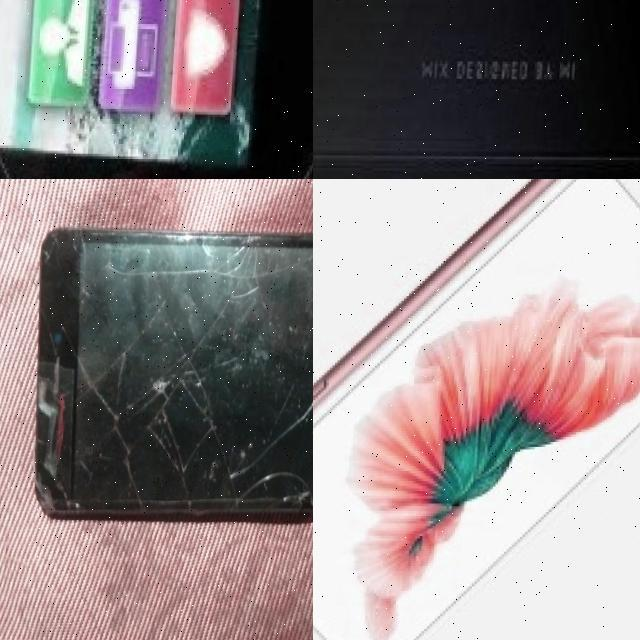screen crack: (27, 229, 313, 523)
